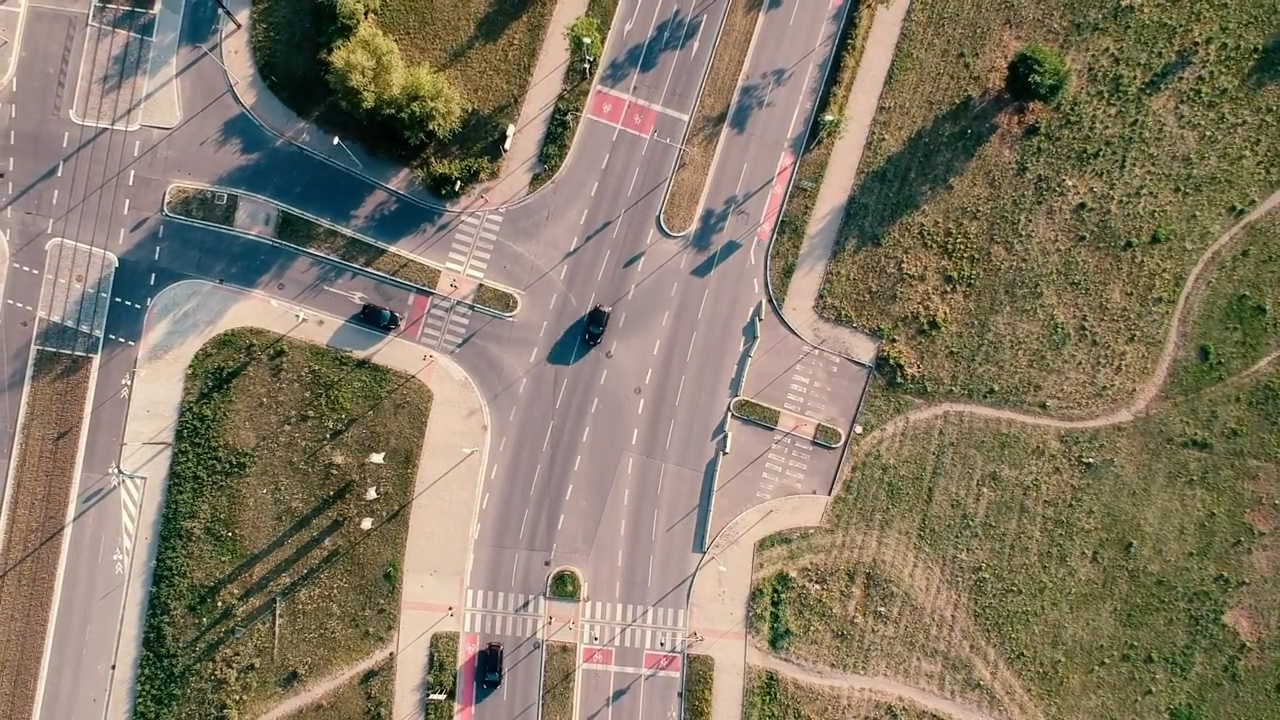car: (581, 301, 612, 347), (362, 301, 402, 331), (484, 641, 504, 689)
